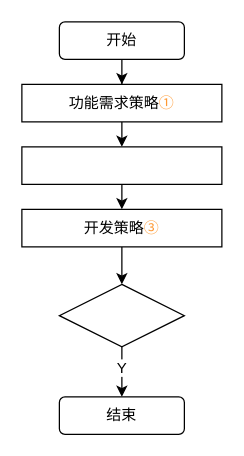
This 244x456 diagram has some shape labels left out. The shapes that lost their labels are listed below. From the top down, each one's centre as x and y in pixels, then its label:
the point at 121,165: 非功能需求策略 ②
the point at 121,315: 评审 ⑥
